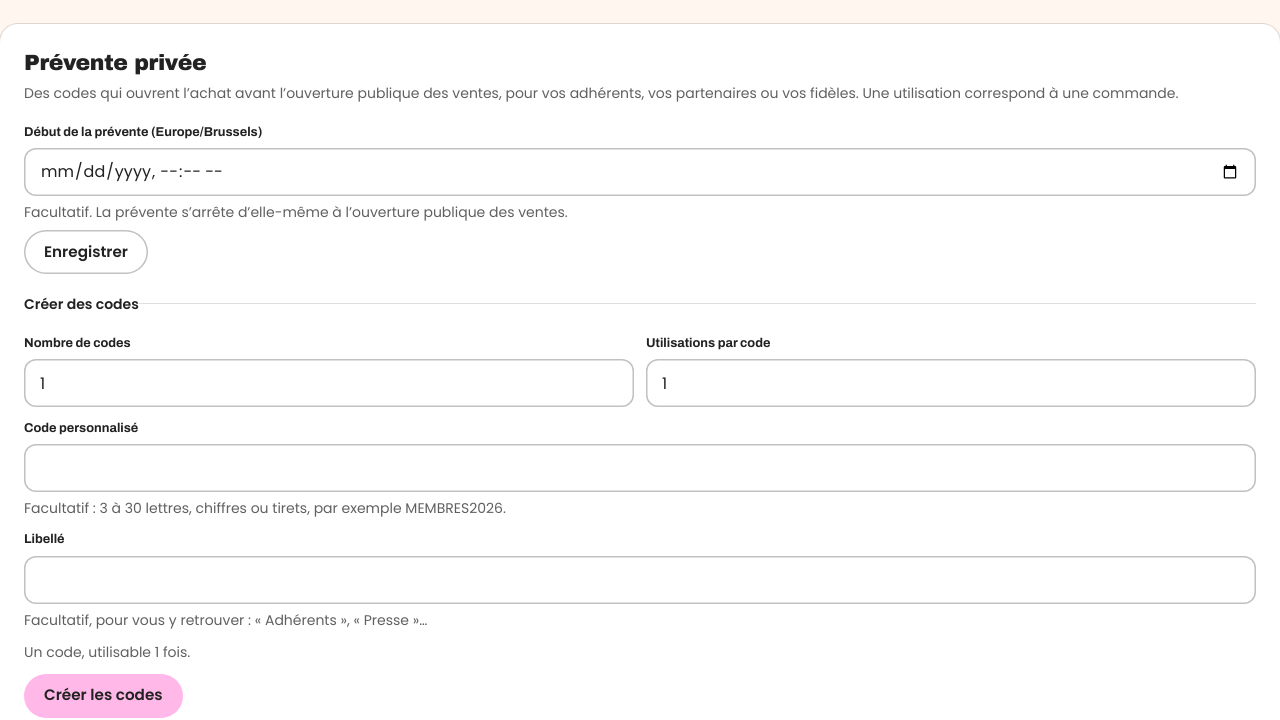
it: prévente privée (RG-PRV-01, RG-PRV-02) › génération : quantité et utilisations envoyées, nombre de codes créés annoncé
Replace the text in the number field labelled "Nombre de codes" with "3" at (329, 383), box [24, 359, 634, 407]
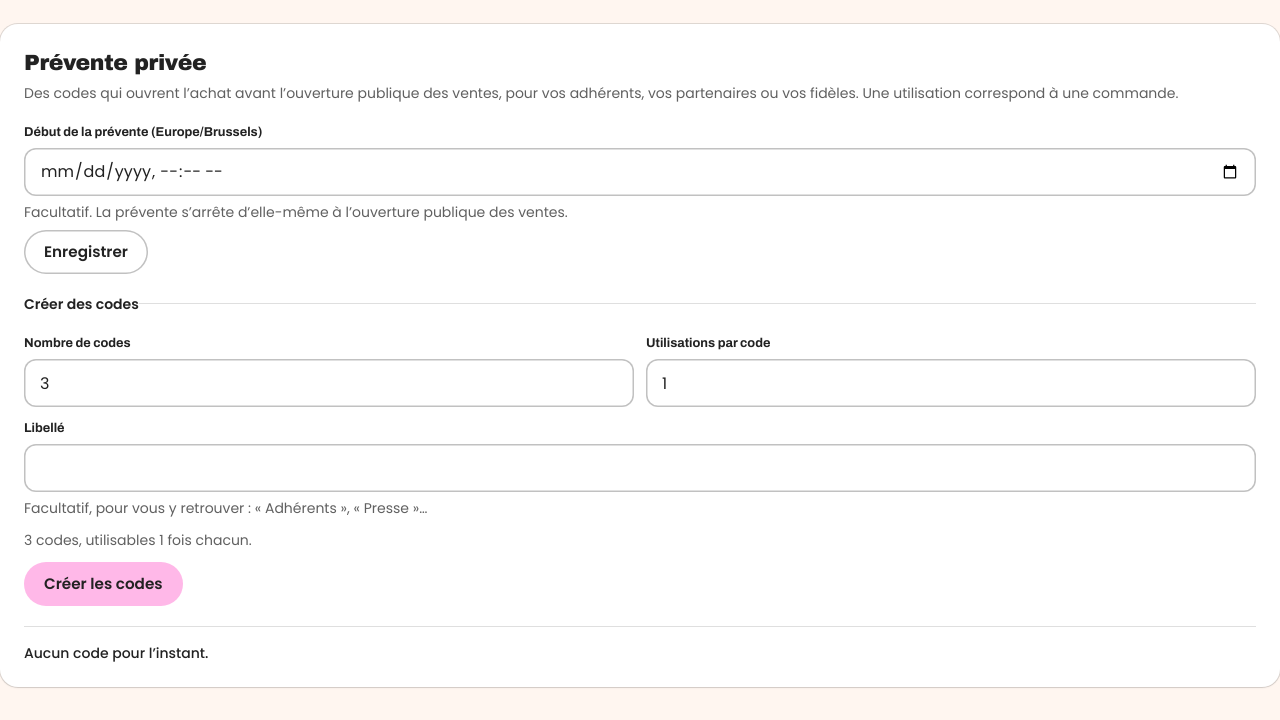
Replace the text in the number field labelled "Utilisations par code" with "2" at (951, 383), box [646, 359, 1256, 407]
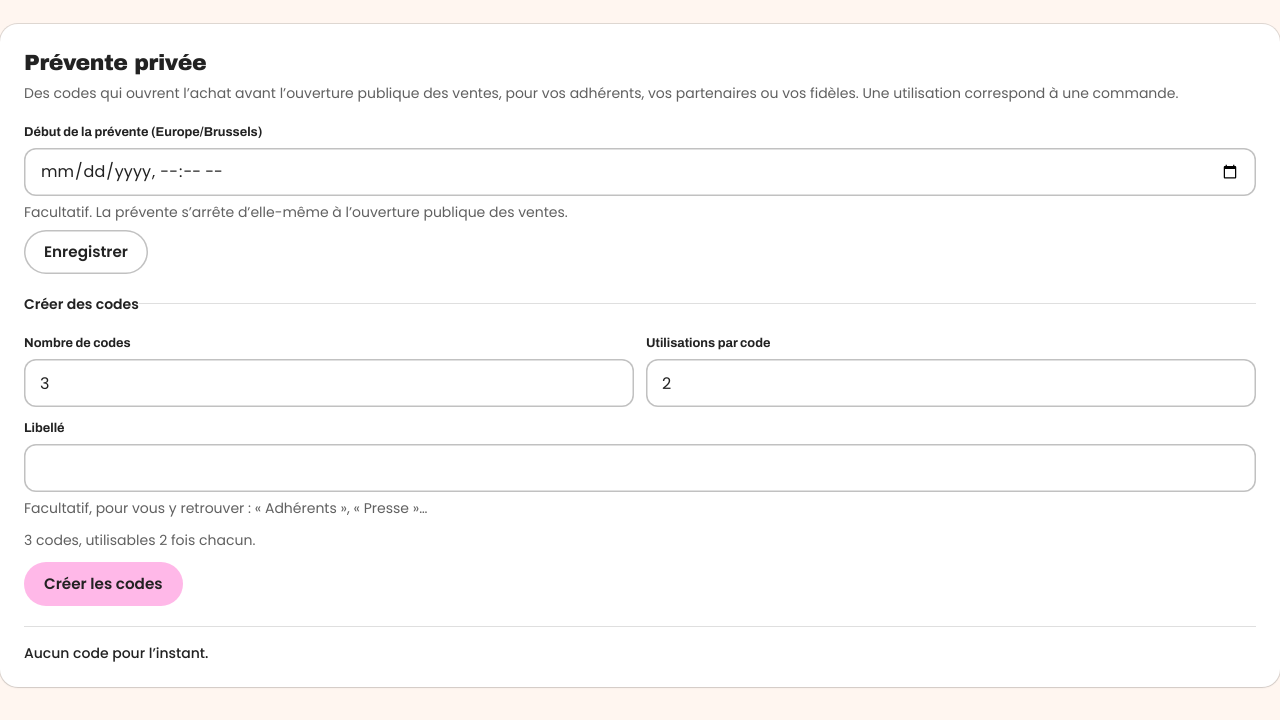
Click the button "Créer les codes" at (103, 584), box [24, 562, 183, 606]
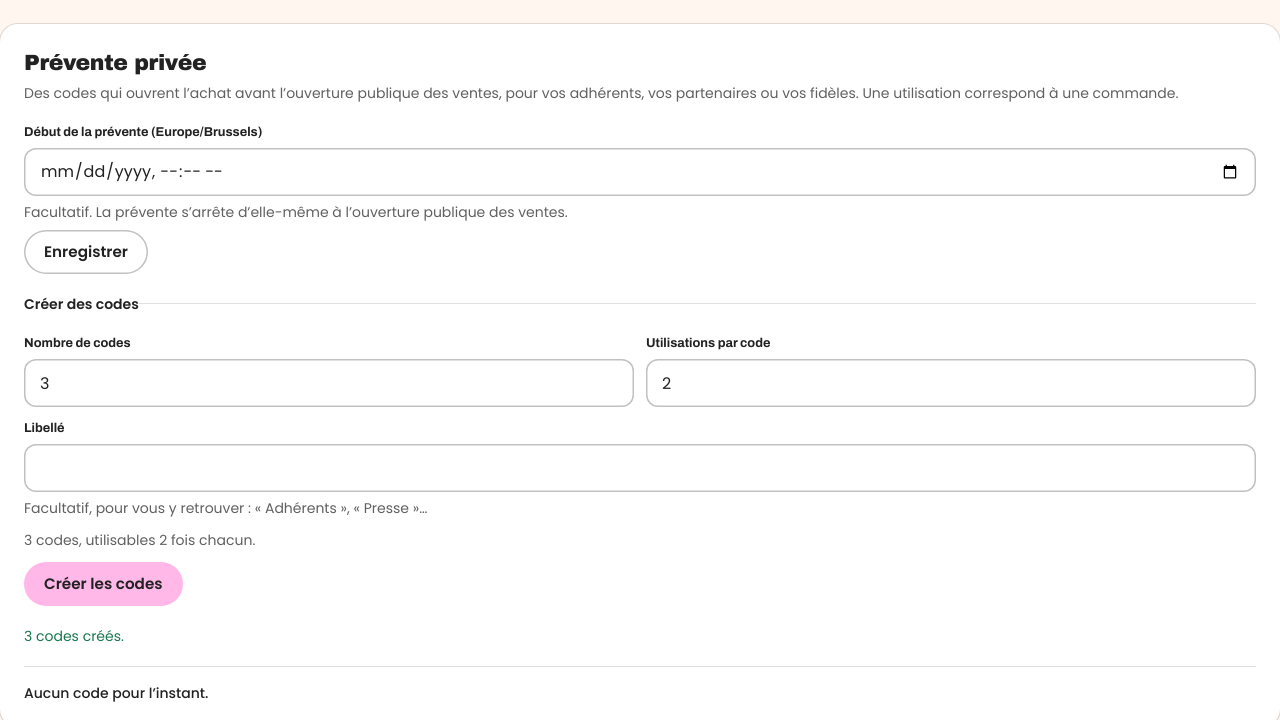
expect the message shows "3": met, box [24, 626, 124, 646]
